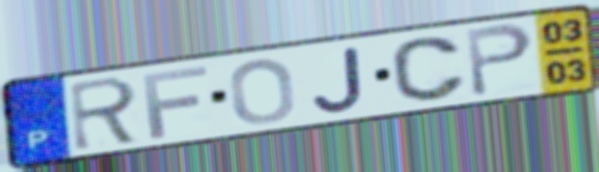C: (388, 34, 471, 105)
F: (139, 63, 212, 141)
J: (309, 44, 367, 115)
O: (226, 56, 298, 126)
P: (463, 20, 537, 100)
R: (66, 74, 144, 154)
